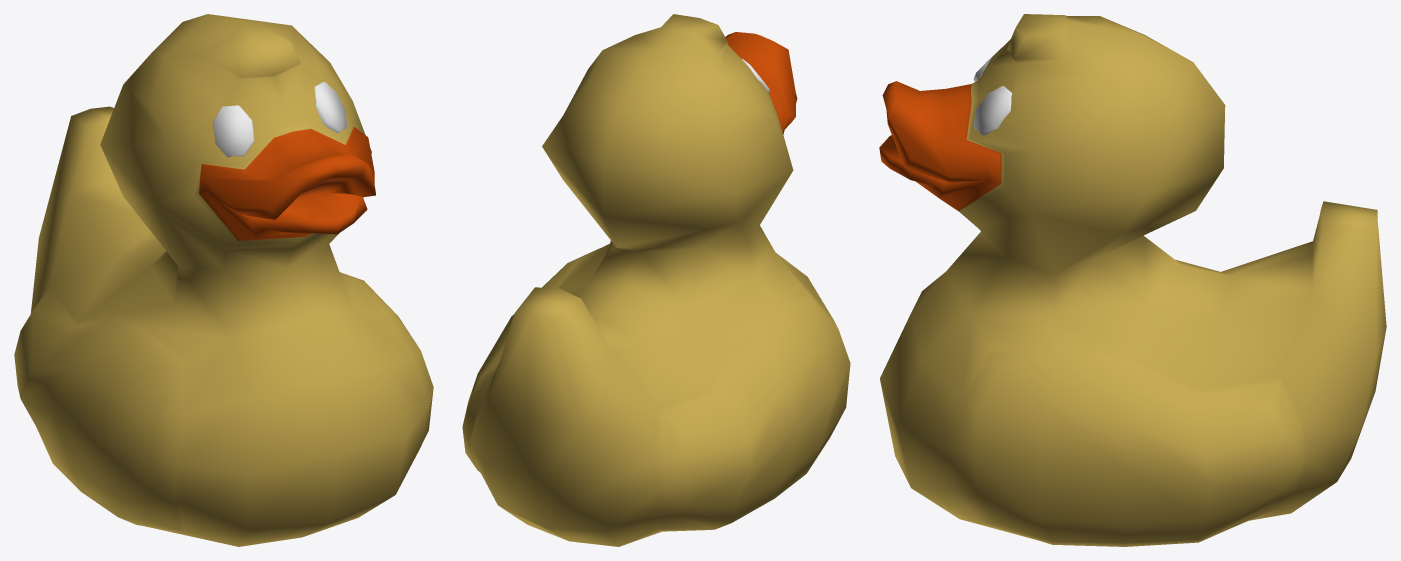
File: Rubber Duck.fbx
3 views of the same model, side by side, from view 1: azimuth 30°, elevation 25°; view 2: azimuth 150°, elevation 25°; view 3: azimuth 270°, elevation 25° (orthographic). The views are drawn at different scales.
Visible parts, largest first — view 1: Rubber Duck, Rubber Duck Eyes; view 2: Rubber Duck; view 3: Rubber Duck, Rubber Duck Eyes.
Boxes of the visible parts, left/top/right/bottom form: Rubber Duck: left=14, top=14, right=433, bottom=546; Rubber Duck Eyes: left=212, top=82, right=346, bottom=157; Rubber Duck: left=462, top=14, right=850, bottom=546; Rubber Duck: left=879, top=14, right=1386, bottom=546; Rubber Duck Eyes: left=973, top=48, right=1011, bottom=135.
Bounding box in the file's own units: 258 × 361 × 346.
